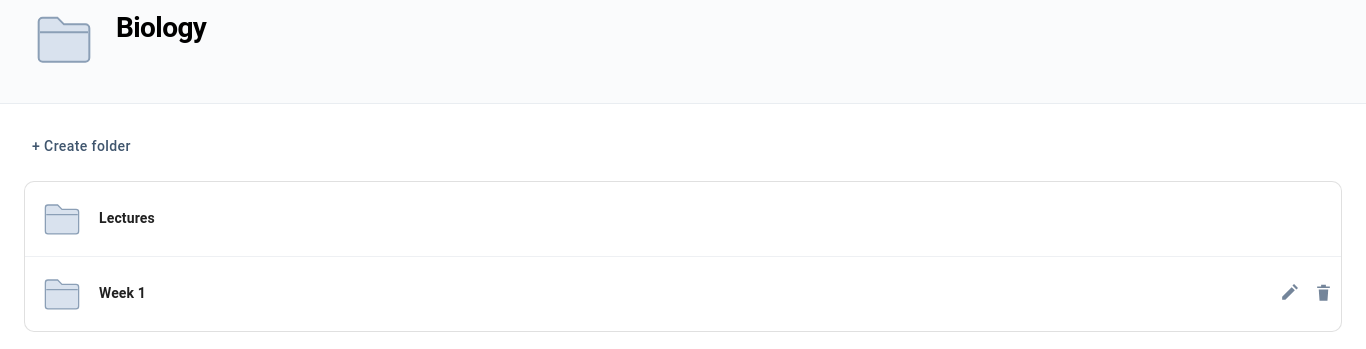
hides starter edit/delete controls in rows and open folders while preserving custom controls
The width and height of the screenshot is (1366, 349).
Expected: the button named "Delete folder Week 1" is enabled, [1306,276,1341,311]
Click the link with aria-label "Open folder Lectures".
click(98, 218)  # box [41,198,155,240]
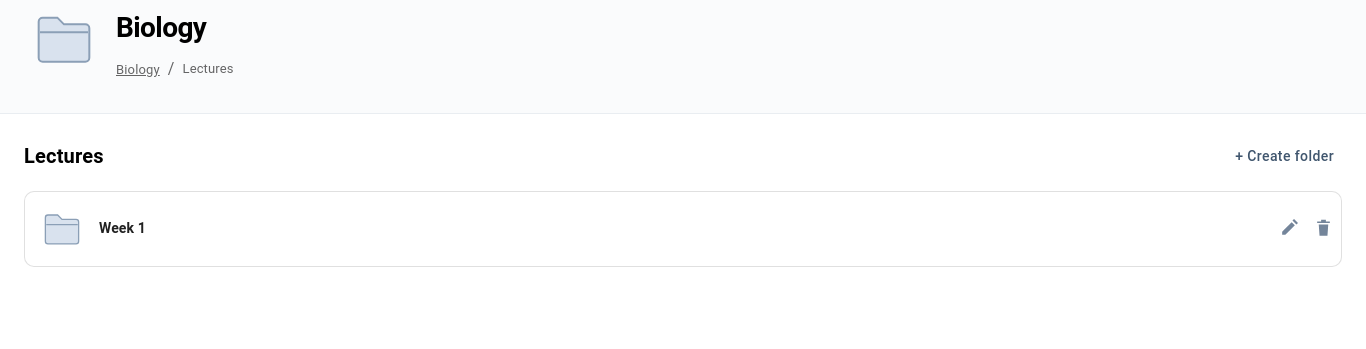
Expected: the button named "Edit folder Week 1" is enabled, [1271,211,1306,246]
Now the heading "Lectures" is shown, box [24,144,104,168]
